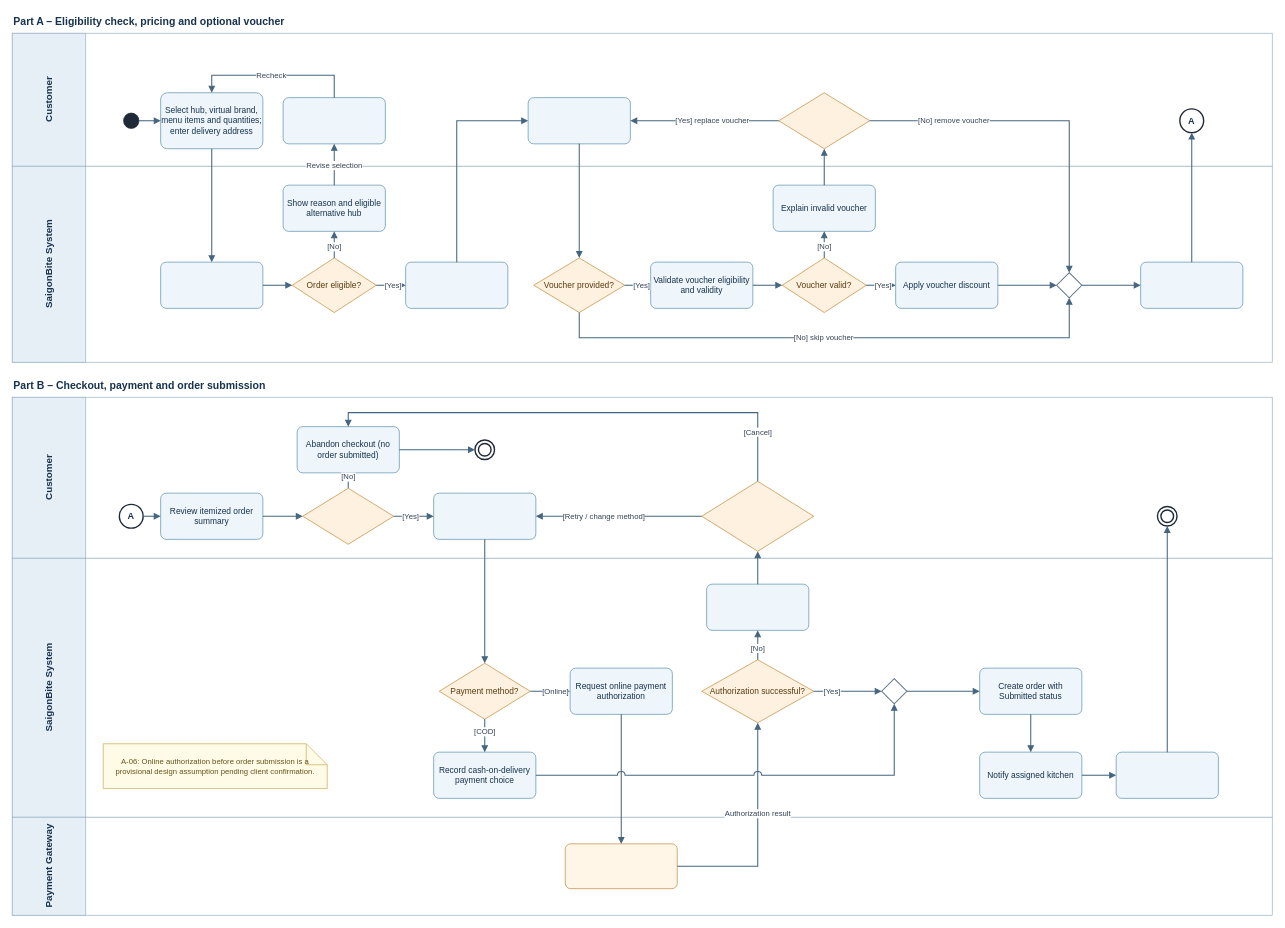
Some shapes in this 1285 by 928 pixel diagram are drawn without their labels. The shapes that lost their labels are listed below. From the top down, each one's box as (x1, y1, x2, y2) in pixels, then its label:
(282, 97, 385, 144): Revise selection or choose an alternative eligible hub
(527, 97, 630, 144): Apply optional voucher (maximum one) or skip
(778, 92, 870, 149): Replace voucher?
(160, 261, 263, 308): Check delivery distance, hub capacity and item availability
(405, 261, 508, 308): Calculate subtotal, delivery fee and quiet-hub incentive
(1140, 261, 1243, 308): Calculate and display final itemized order total
(302, 488, 394, 544): Confirm checkout?
(433, 492, 536, 539): Select payment method
(701, 481, 814, 551): Retry or change payment method?
(706, 583, 809, 630): Display payment failure message
(1115, 751, 1218, 798): Display order confirmation
(565, 843, 677, 889): Process authorization and return success or decline result
